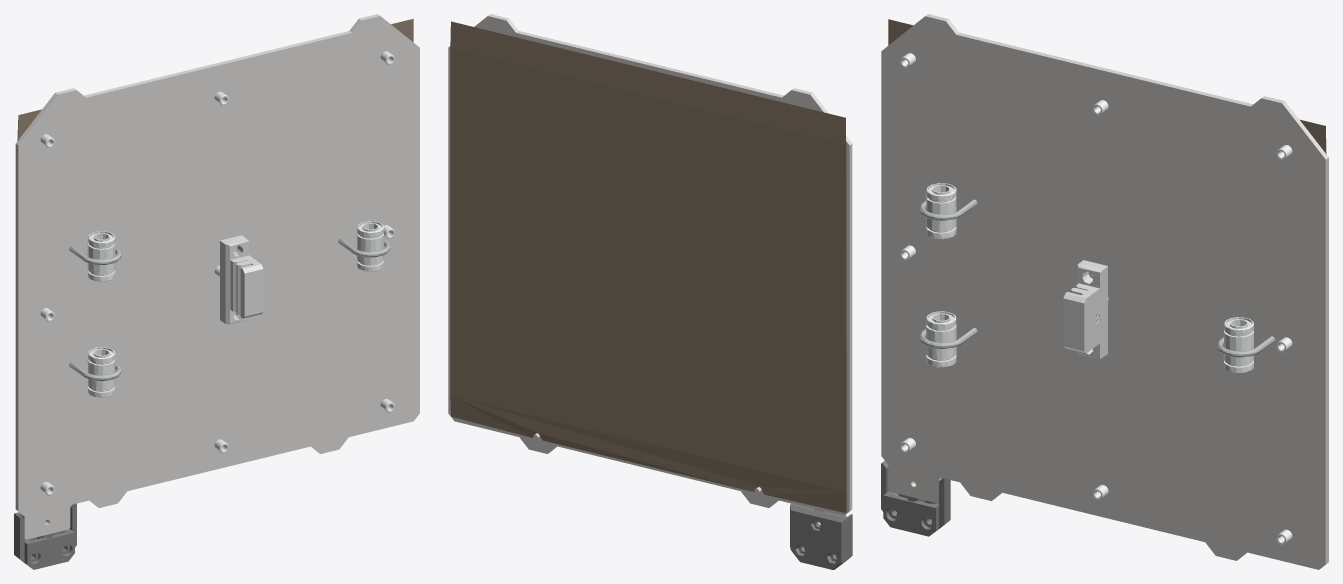
The model's file is prusamk3-y.dae.
3 renders of one model, left to right at view 1: azimuth 30°, elevation 25°; view 2: azimuth 150°, elevation 25°; view 3: azimuth 330°, elevation 25°, orthographic. The views are drawn at different scales.
Visible parts, largest first — view 1: Part__Feature108, Part__Feature053, Part__Feature119, Part__Feature051, Part__Feature050, Part__Feature052, Part__Feature118, Part__Feature120; view 2: Part__Feature120, Part__Feature108, Part__Feature118; view 3: Part__Feature108, Part__Feature053, Part__Feature119, Part__Feature052, Part__Feature051, Part__Feature050, Part__Feature118, Part__Feature120.
Part boxes in pixels (x1,y1,x2,y2): Part__Feature108: [15, 14, 419, 539]; Part__Feature053: [220, 235, 263, 324]; Part__Feature119: [24, 529, 74, 569]; Part__Feature051: [87, 231, 115, 281]; Part__Feature050: [356, 221, 384, 271]; Part__Feature052: [87, 347, 115, 397]; Part__Feature118: [14, 503, 76, 563]; Part__Feature120: [17, 19, 413, 140]; Part__Feature120: [450, 21, 846, 512]; Part__Feature108: [448, 14, 852, 524]; Part__Feature118: [790, 503, 852, 569]; Part__Feature108: [881, 14, 1328, 569]; Part__Feature053: [1063, 260, 1107, 358]; Part__Feature119: [883, 491, 939, 536]; Part__Feature052: [926, 311, 956, 367]; Part__Feature051: [926, 183, 956, 239]; Part__Feature050: [1223, 317, 1253, 373]; Part__Feature118: [881, 461, 950, 529]; Part__Feature120: [888, 19, 1326, 153].
Size of the model in its own units: 254 by 41.42 by 281.
